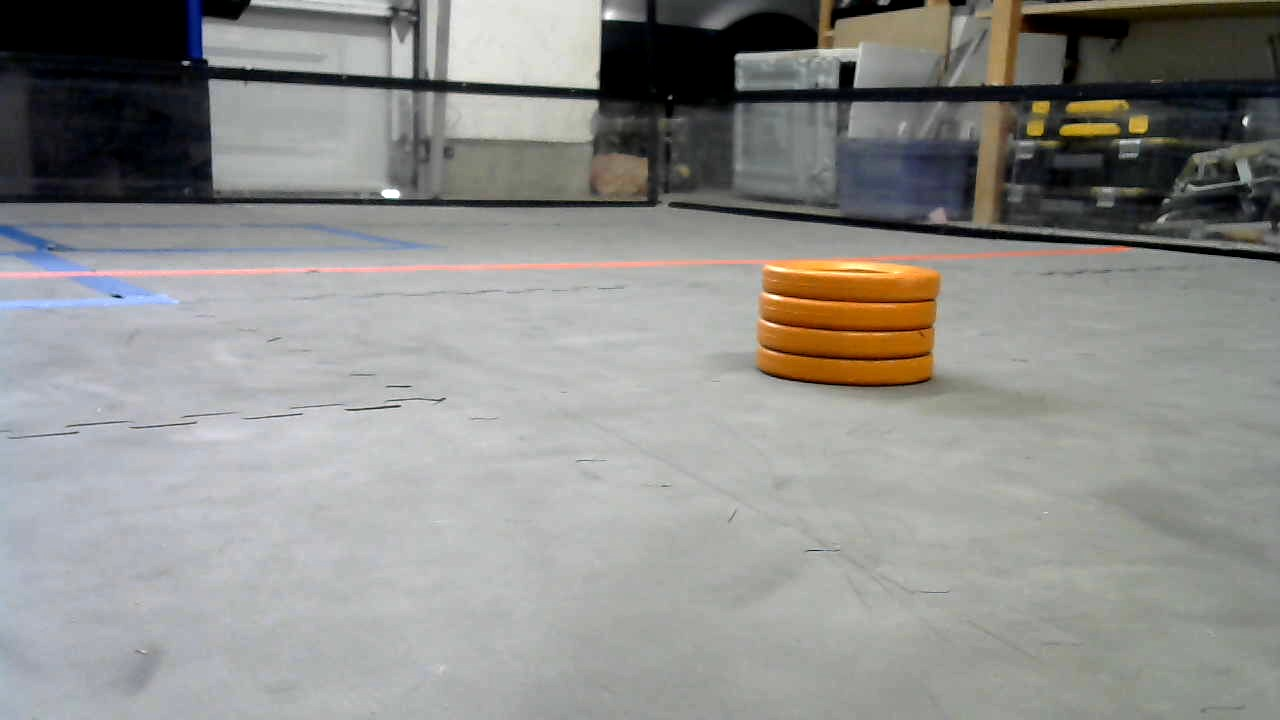FourStack: (755, 257, 939, 384)
